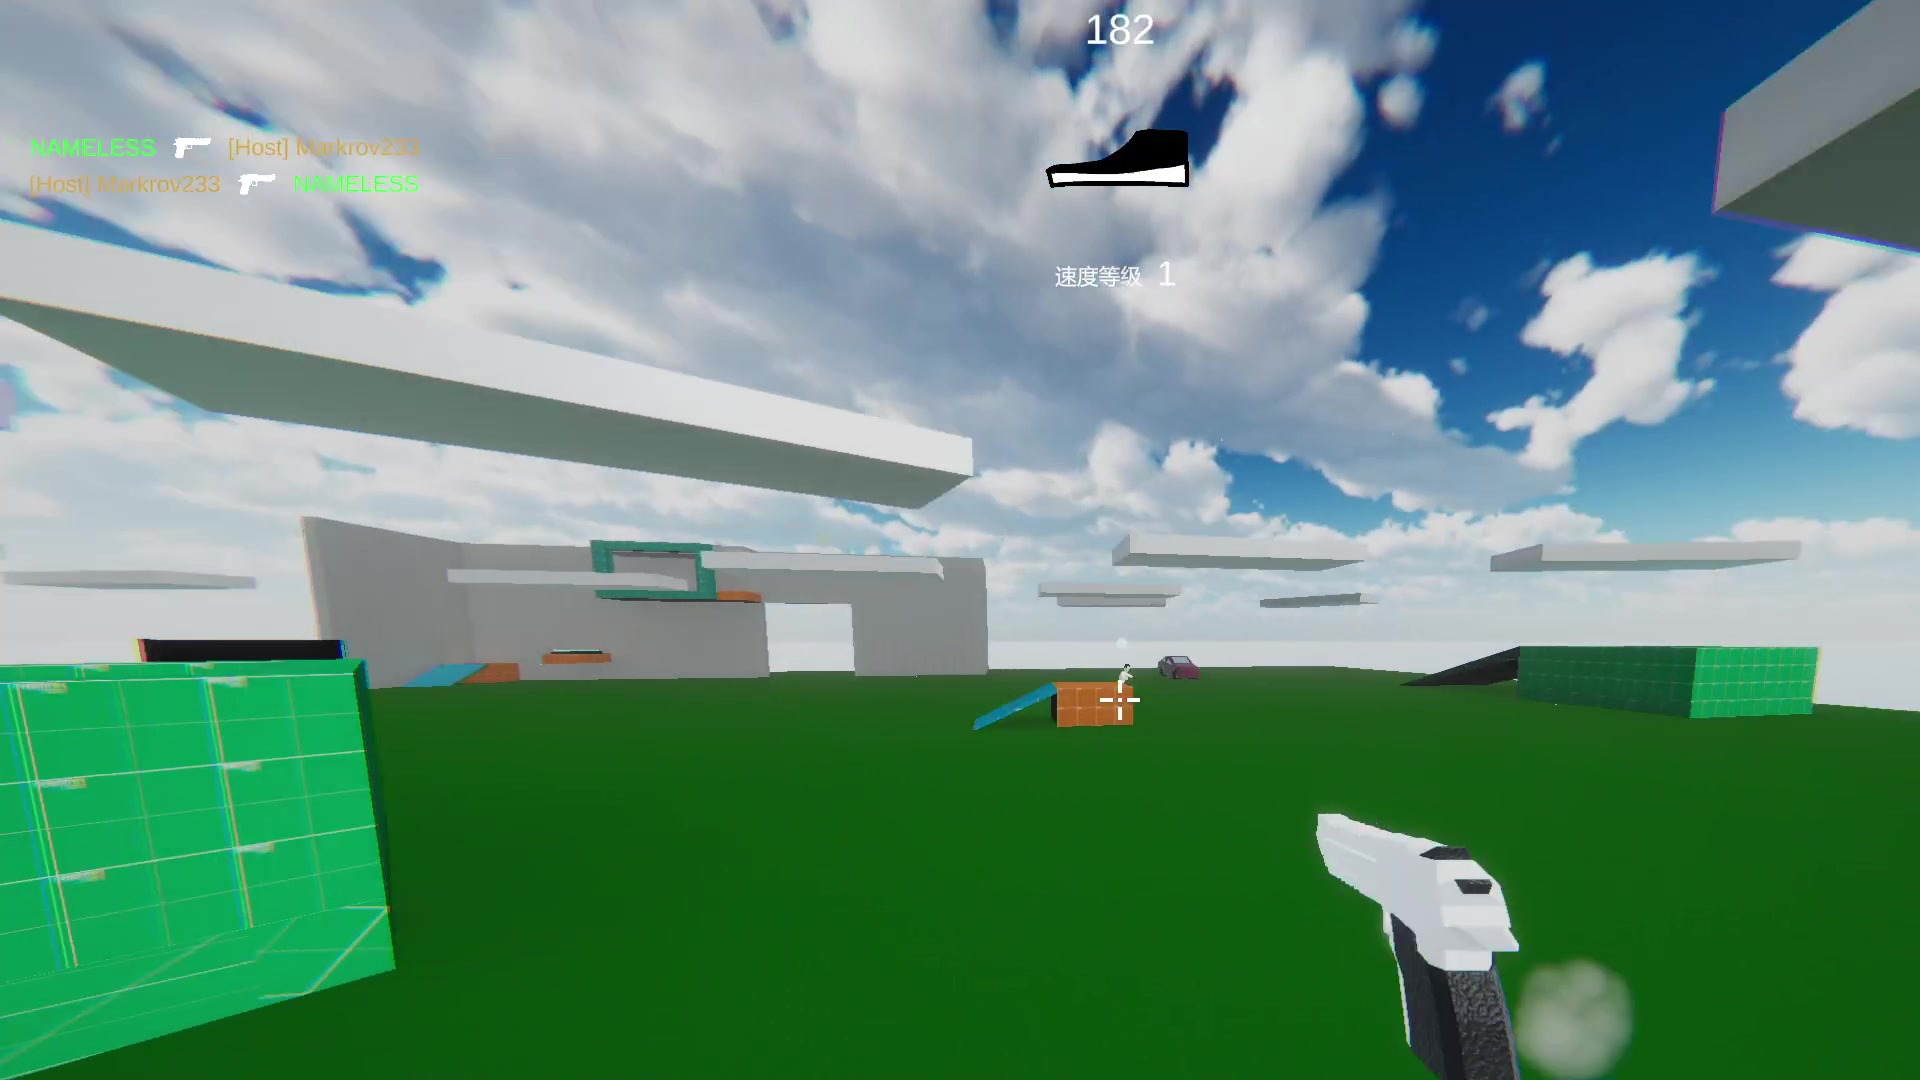human: (1119, 653, 1136, 682)
